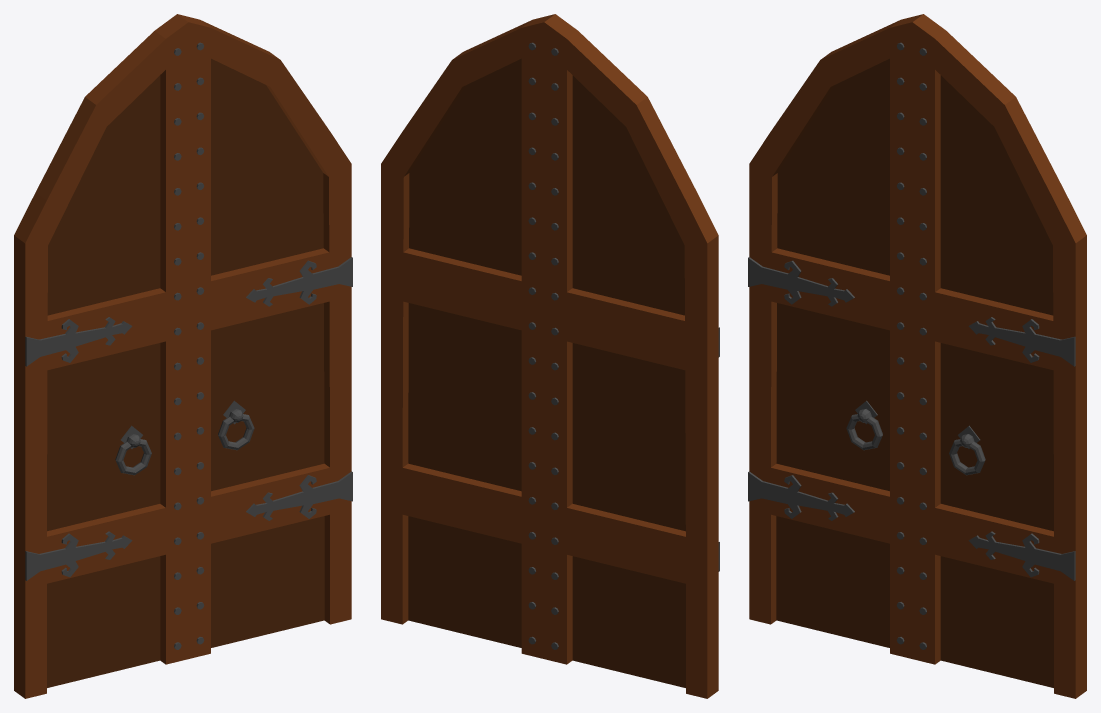
File: GrandePorte.fbx
3 renders of one model, left to right at view 1: azimuth 30°, elevation 25°; view 2: azimuth 150°, elevation 25°; view 3: azimuth 330°, elevation 25°, orthographic.
Visible parts, largest first — view 1: GrandPOrte, Fer, Poignee_Anneau, Clous; view 2: GrandPOrte, Clous; view 3: GrandPOrte, Fer, Poignee_Anneau, Clous.
Boxes of the visible parts, bbox=[...] form: GrandPOrte: bbox=[14, 14, 351, 698]; Fer: bbox=[25, 257, 352, 580]; Poignee_Anneau: bbox=[115, 400, 254, 475]; Clous: bbox=[174, 42, 204, 649]; GrandPOrte: bbox=[381, 14, 718, 698]; Clous: bbox=[528, 42, 558, 649]; GrandPOrte: bbox=[749, 14, 1086, 698]; Fer: bbox=[748, 257, 1075, 580]; Poignee_Anneau: bbox=[846, 400, 985, 475]; Clous: bbox=[896, 42, 926, 649].
Size of the model in its own units: 150 by 280 by 10.86.
